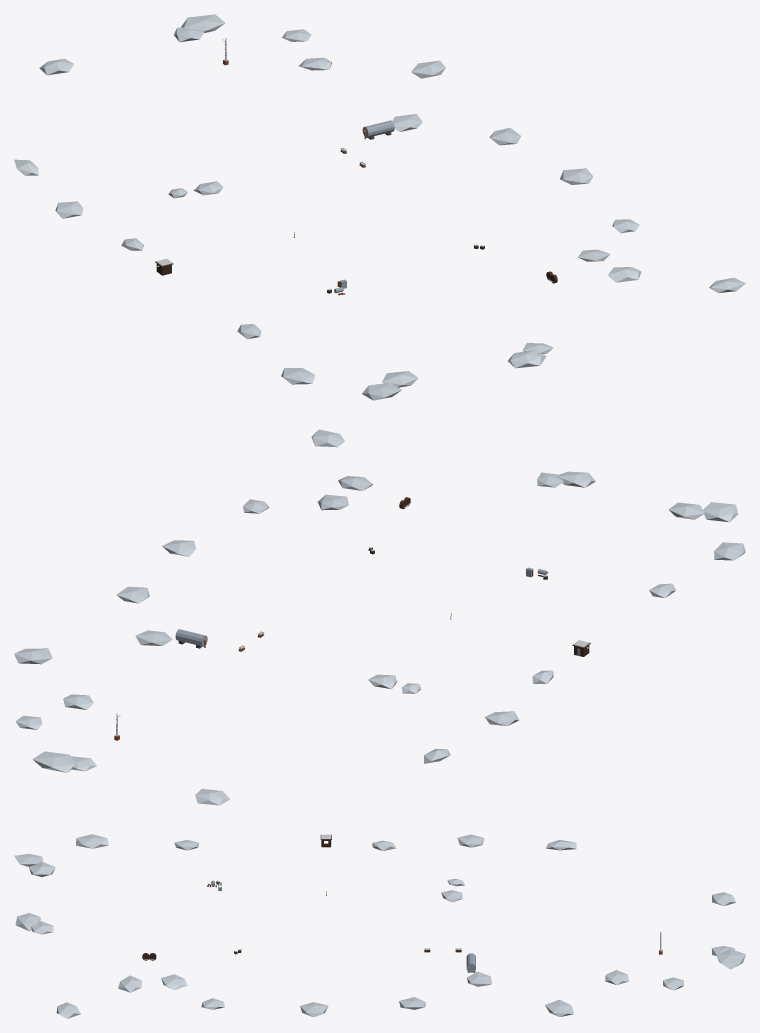
The model's file is DepotYard_-2_-2.fbx.
The picture shows the model from 3 angles, top to bottom: view 1: azimuth 30°, elevation 25°; view 2: azimuth 150°, elevation 25°; view 3: azimuth 270°, elevation 25°; orthographic projection. The views are drawn at different scales.
Parts seen in each view (by area): view 1: DepotYard_-2_-2; view 2: DepotYard_-2_-2; view 3: DepotYard_-2_-2.
Part boxes in pixels (<box>): DepotYard_-2_-2: <box>14,14,745,400</box>; DepotYard_-2_-2: <box>14,429,745,805</box>; DepotYard_-2_-2: <box>14,834,745,1018</box>.
Size of the model in its own units: 13595 by 847 by 23188.
